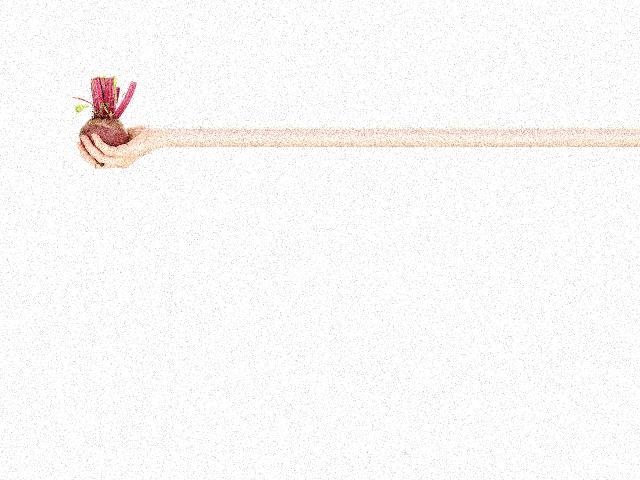beet: (72, 76, 136, 167)
